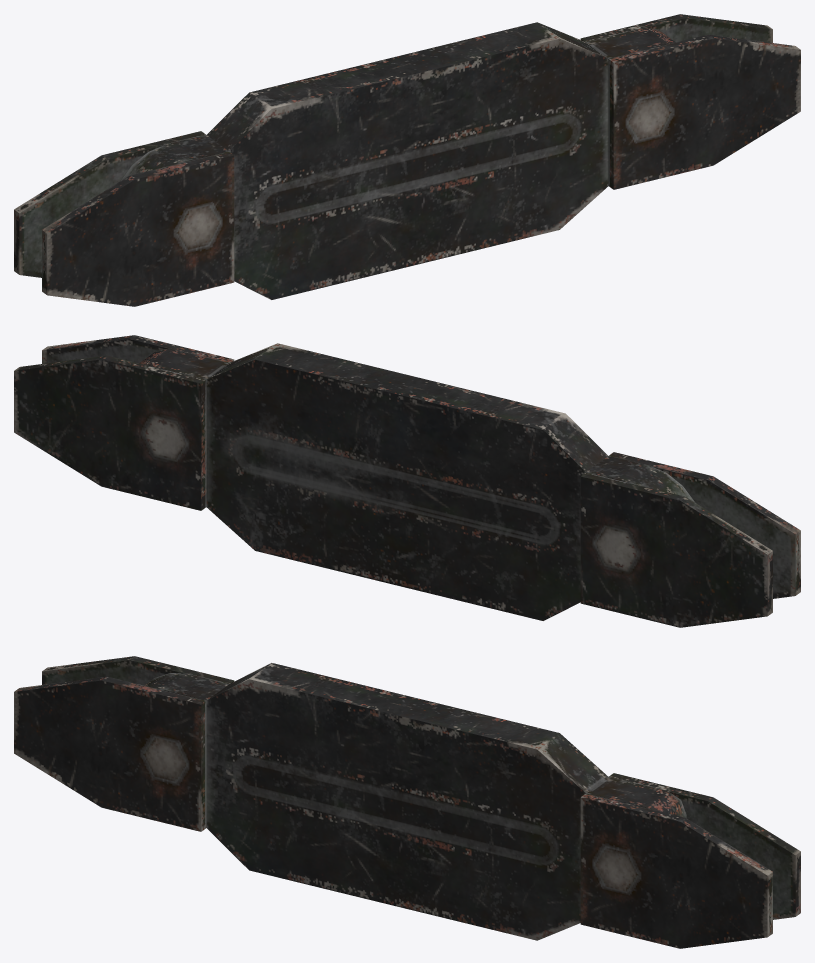
Rendered from CraneCable_02a_snaps005.fbx.
3 renders of one model, top to bottom at view 1: azimuth 30°, elevation 25°; view 2: azimuth 150°, elevation 25°; view 3: azimuth 330°, elevation 25°, orthographic.
Visible parts, largest first — view 1: CraneCable_02a_snaps005; view 2: CraneCable_02a_snaps005; view 3: CraneCable_02a_snaps005.
Part boxes in pixels (box(x1,y1,x2,y2)): CraneCable_02a_snaps005: box(14, 14, 800, 306); CraneCable_02a_snaps005: box(14, 335, 800, 627); CraneCable_02a_snaps005: box(14, 656, 800, 948).
Size of the model in its own units: 107 by 25.87 by 8.16.
